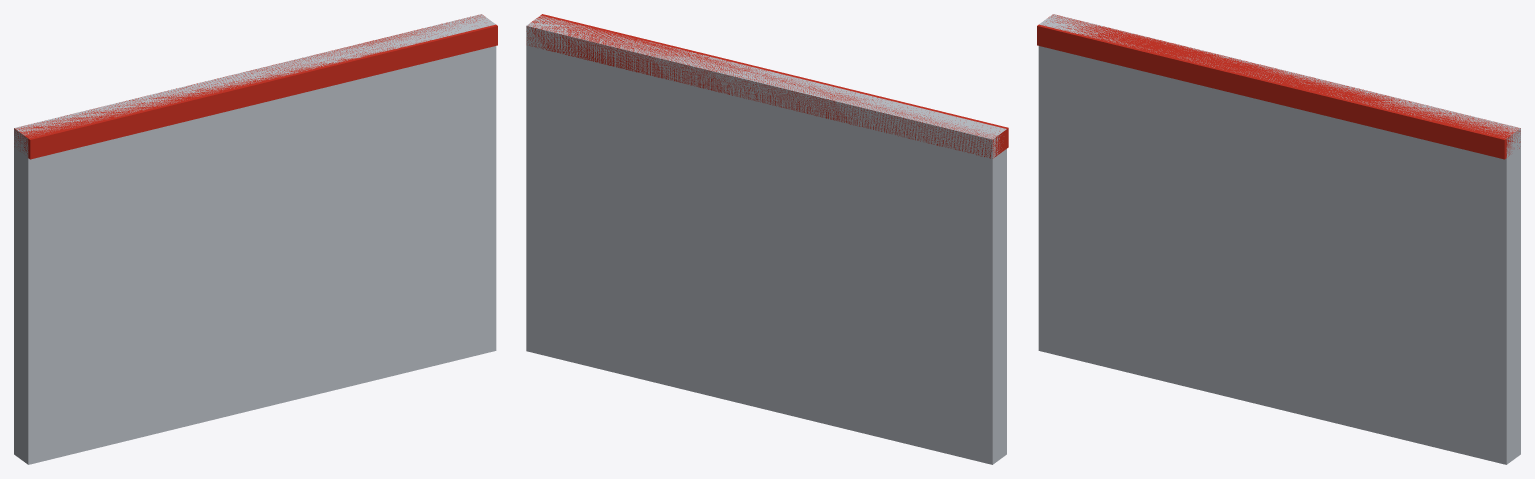
The model's file is hangar_shutter.obj.
3 views of the same model, side by side, from view 1: azimuth 30°, elevation 25°; view 2: azimuth 150°, elevation 25°; view 3: azimuth 330°, elevation 25° (orthographic).
Parts seen in each view (by area): view 1: hangar_shutter; view 2: hangar_shutter; view 3: hangar_shutter.
Boxes of the visible parts, box(x1,y1,x2,y2) form: hangar_shutter: box(14, 14, 497, 464); hangar_shutter: box(526, 14, 1008, 464); hangar_shutter: box(1037, 14, 1520, 464).
Bounding box in the file's own units: 3 × 2 × 0.18.
